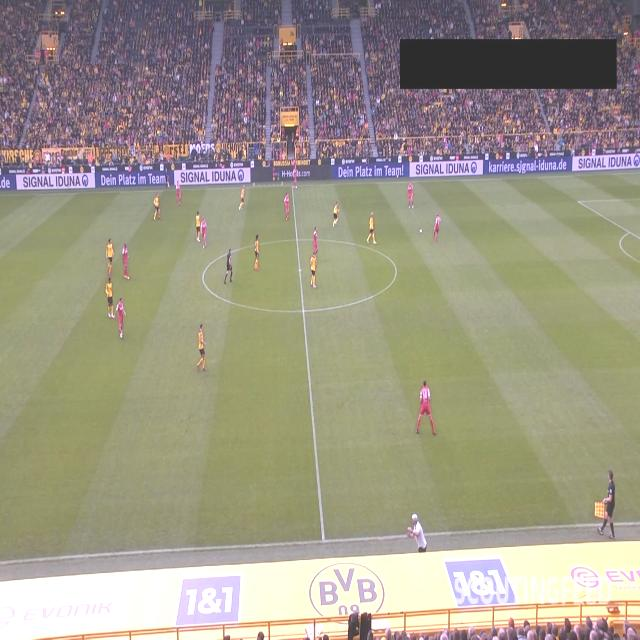ball: (417, 228, 425, 240)
f_player: (414, 380, 438, 436), (195, 325, 208, 373), (116, 304, 130, 342), (310, 237, 320, 288), (106, 274, 116, 322), (192, 210, 204, 246), (310, 226, 322, 258), (104, 238, 114, 274), (121, 244, 131, 280), (282, 196, 294, 224), (200, 222, 212, 248), (368, 214, 378, 244), (254, 234, 262, 269), (330, 201, 340, 229), (240, 182, 247, 215), (407, 183, 415, 210), (434, 217, 442, 244), (292, 166, 300, 191), (154, 195, 162, 219), (175, 182, 183, 206)
umpire: (595, 469, 617, 539), (224, 250, 235, 284), (164, 170, 170, 192)
